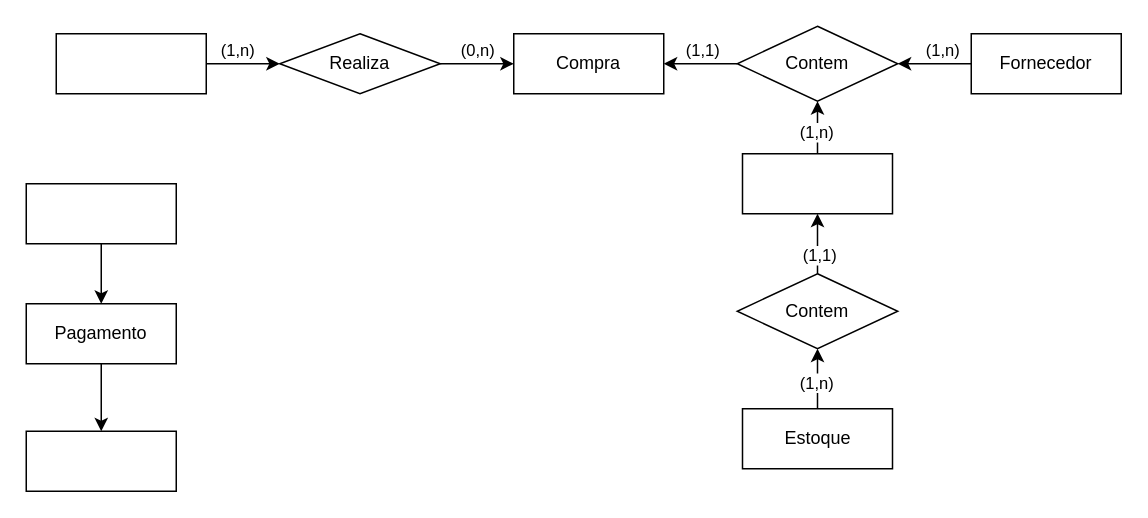
The diagram is 1148 pixels wide and 518 high, and some of its shapes have lost their labels. The shapes that lost their labels are listed below. From the top down, each one's centre as x and y in pixels, then its label:
At (x=130, y=63): "Funcionario".
At (x=816, y=183): "Produtos".
At (x=100, y=213): "Clientes".
At (x=100, y=460): "Venda".
